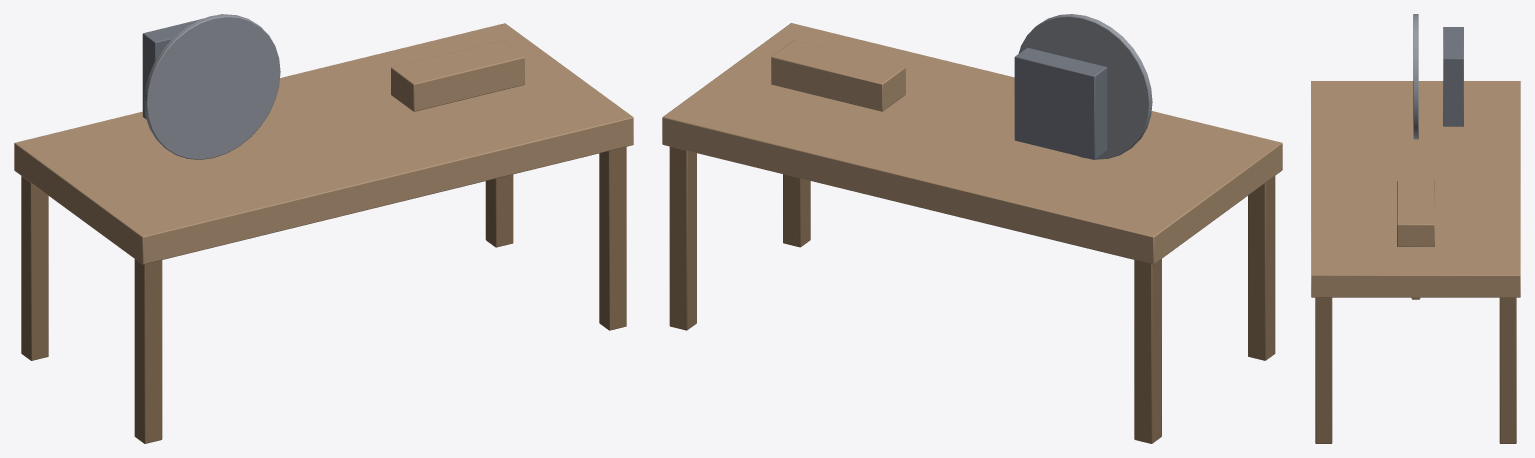
Rendered from SM_ST_SAWBENCH.fbx.
3 views of the same model, side by side, from view 1: azimuth 30°, elevation 25°; view 2: azimuth 150°, elevation 25°; view 3: azimuth 270°, elevation 25° (orthographic). The views are drawn at different scales.
Parts seen in each view (by area): view 1: SM_ST_SAWBENCH; view 2: SM_ST_SAWBENCH; view 3: SM_ST_SAWBENCH.
Part boxes in pixels (box(x1,y1,x2,y2)): SM_ST_SAWBENCH: box(14, 14, 633, 443); SM_ST_SAWBENCH: box(662, 14, 1282, 443); SM_ST_SAWBENCH: box(1311, 14, 1520, 443).
Size of what is drawn, in the model's own units: 2.2 by 1.5 by 1.
